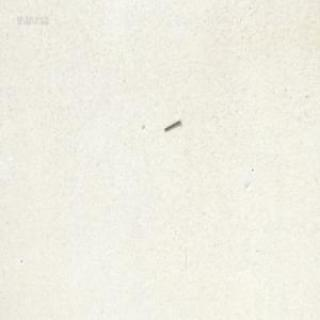Bolttrack_idkeyframe: (162, 118, 180, 130)
